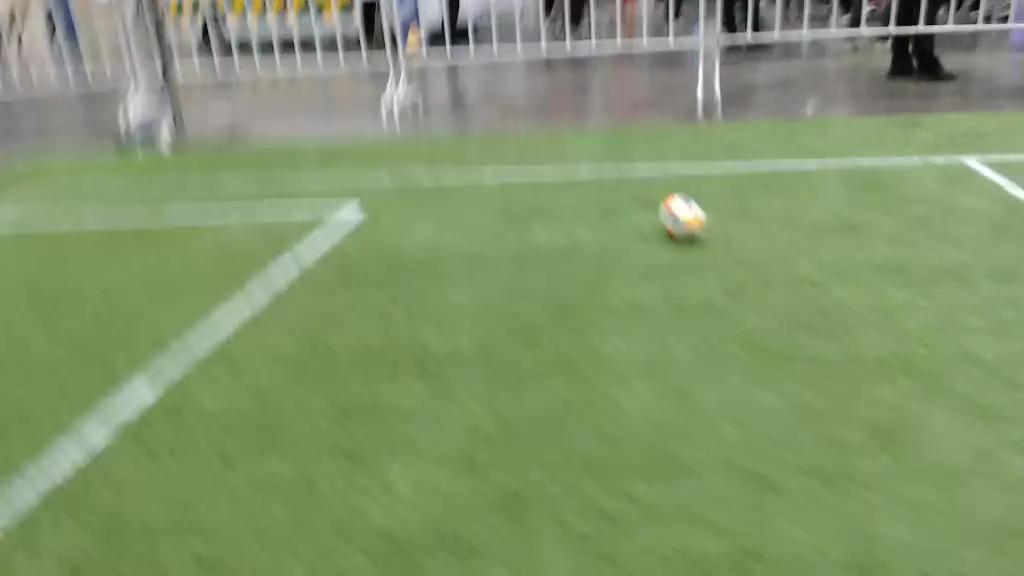ball: (659, 192, 707, 243)
